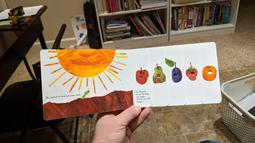text block: (45, 90, 82, 102), (133, 87, 151, 105)
